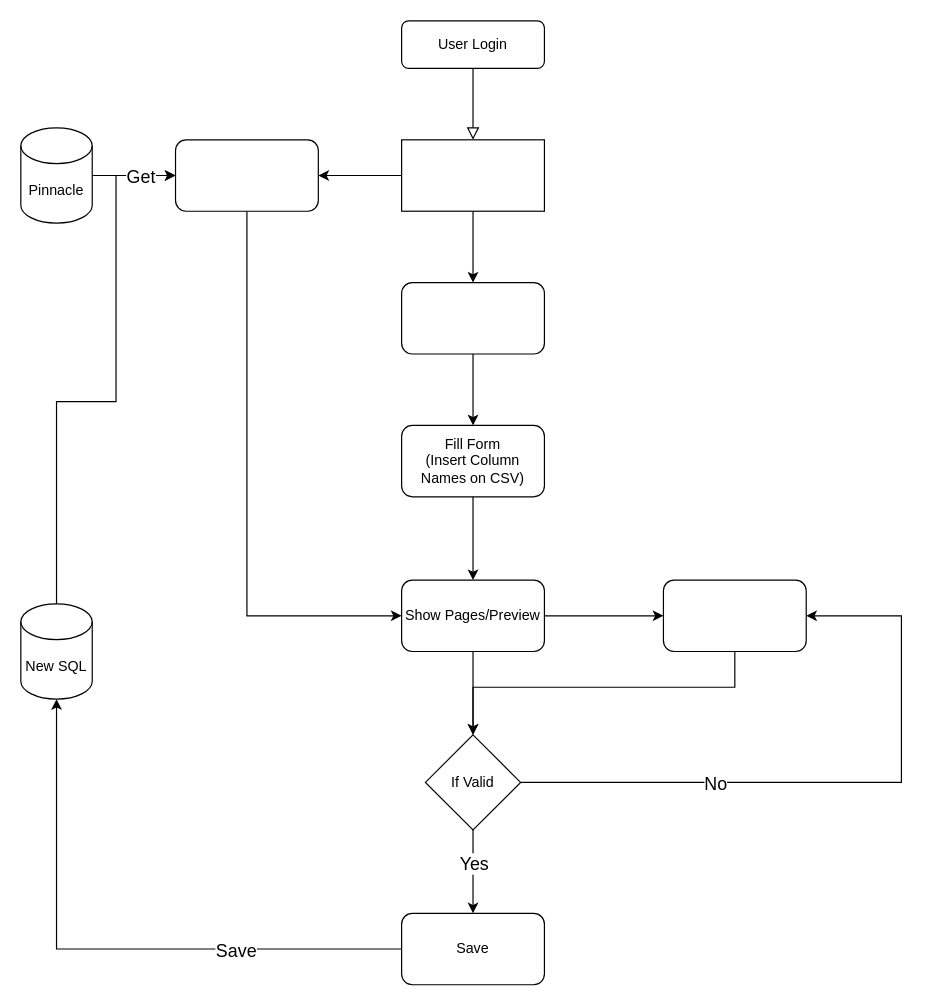
This 932x1006 diagram has some shape labels left out. The shapes that lost their labels are listed below. From the top down, each one's box as (x1, y1, x2, y2) in pixels, then its label:
(174, 139, 318, 211): Search product
(400, 139, 544, 211): Main Product Tab
(400, 281, 544, 354): Import CSV
(662, 579, 806, 652): Edit
